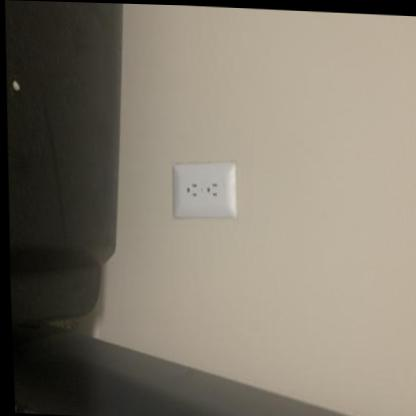OUTLET: (172, 158, 235, 219)
